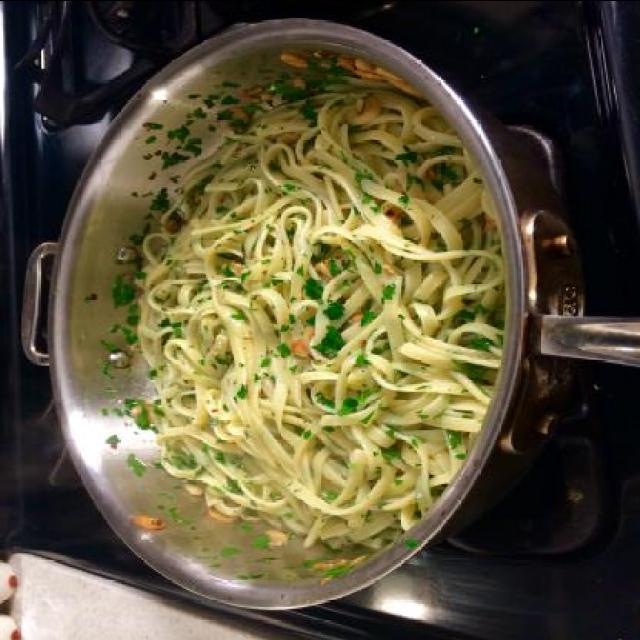Oil pasta: (76, 54, 559, 586)
